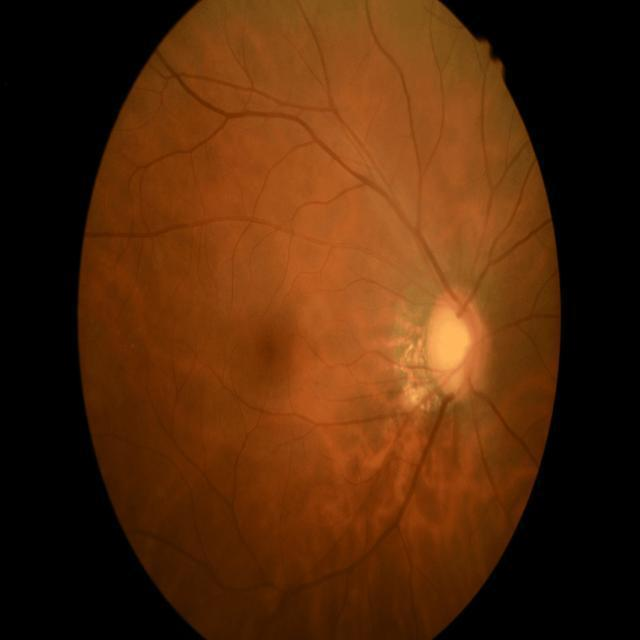cup: (431, 304, 474, 392)
disk: (426, 287, 486, 402)
